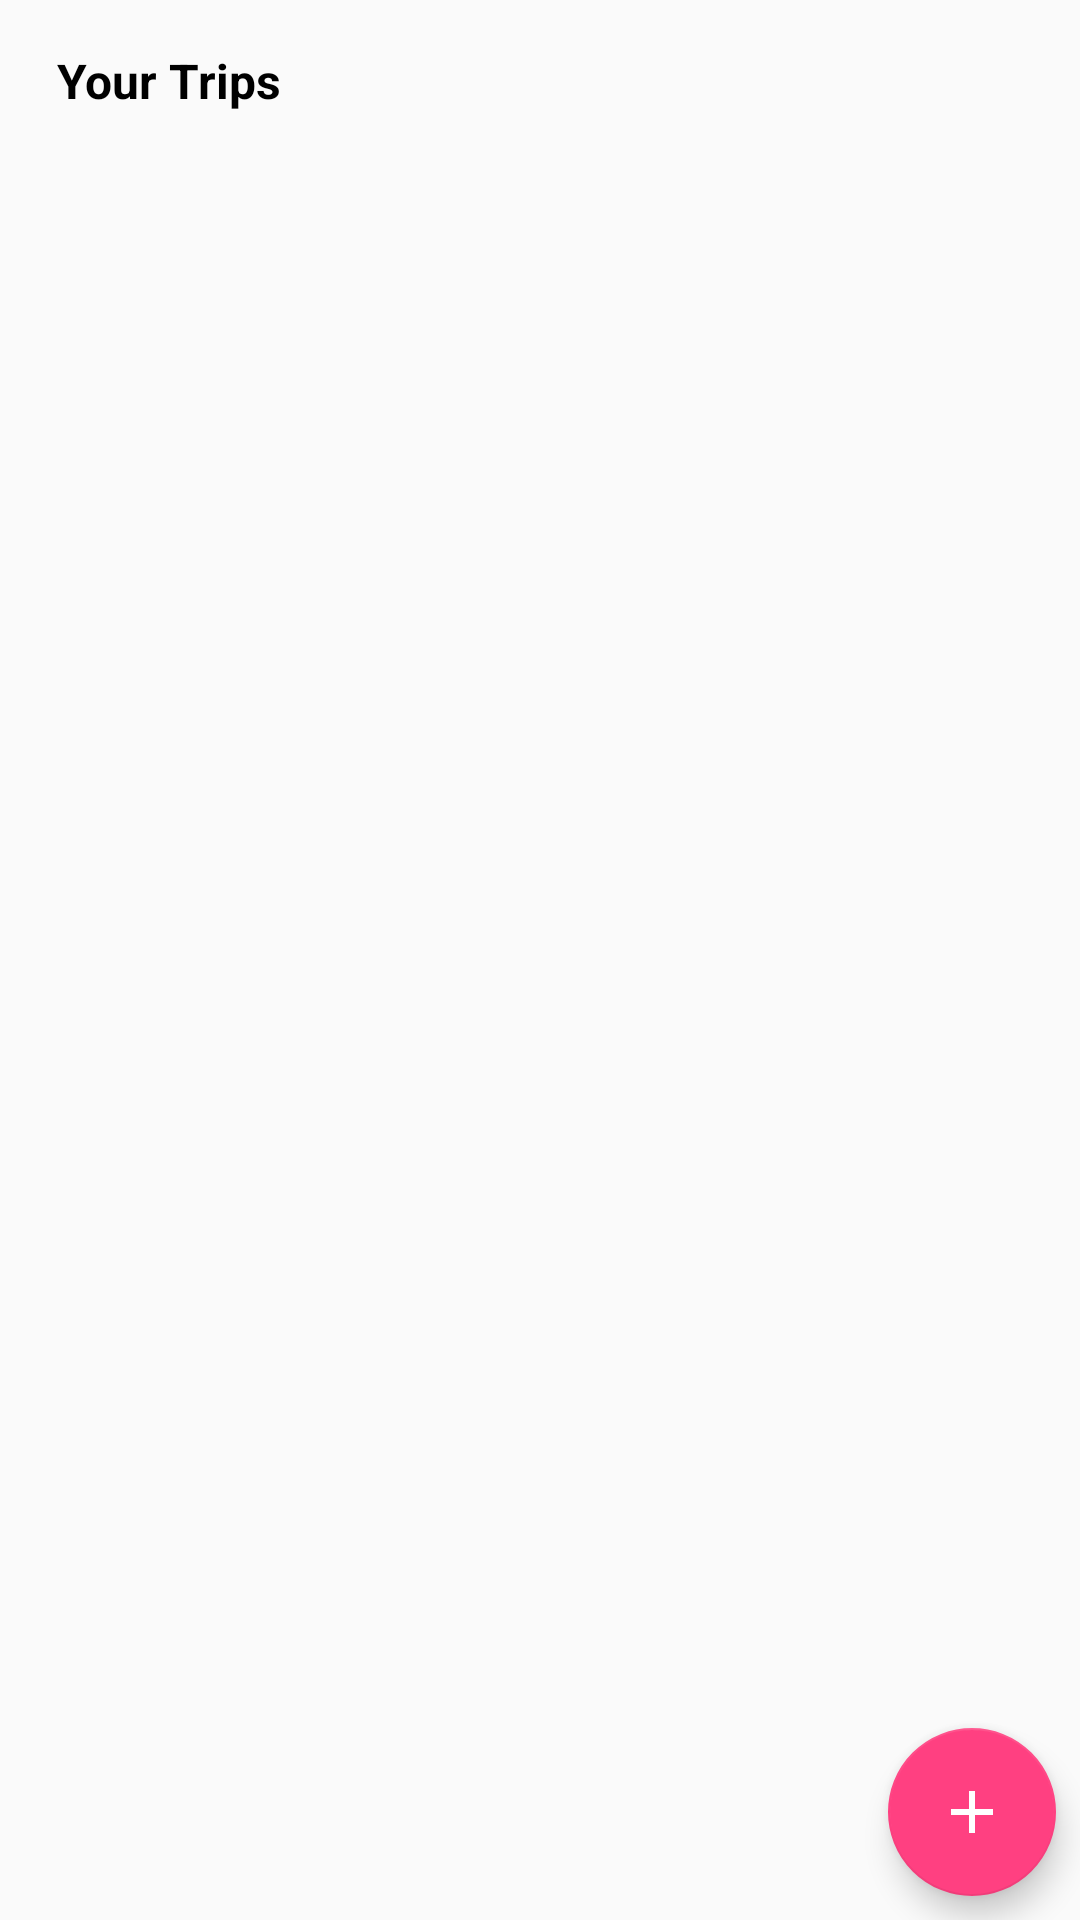

Icon click points for this 1080px×1920px phone screenshot, format (x=x, y=y):
add: (x=972, y=1812)
